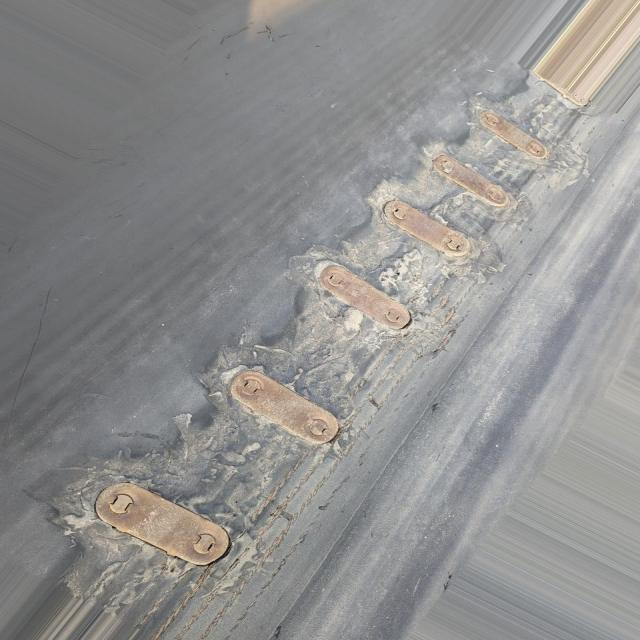patch work: (53, 70, 614, 620)
